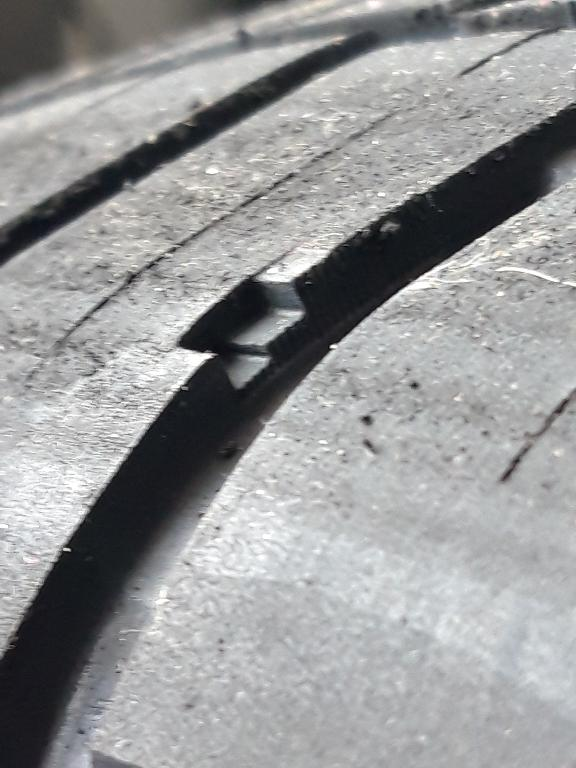temoin:50: (166, 240, 360, 416)
